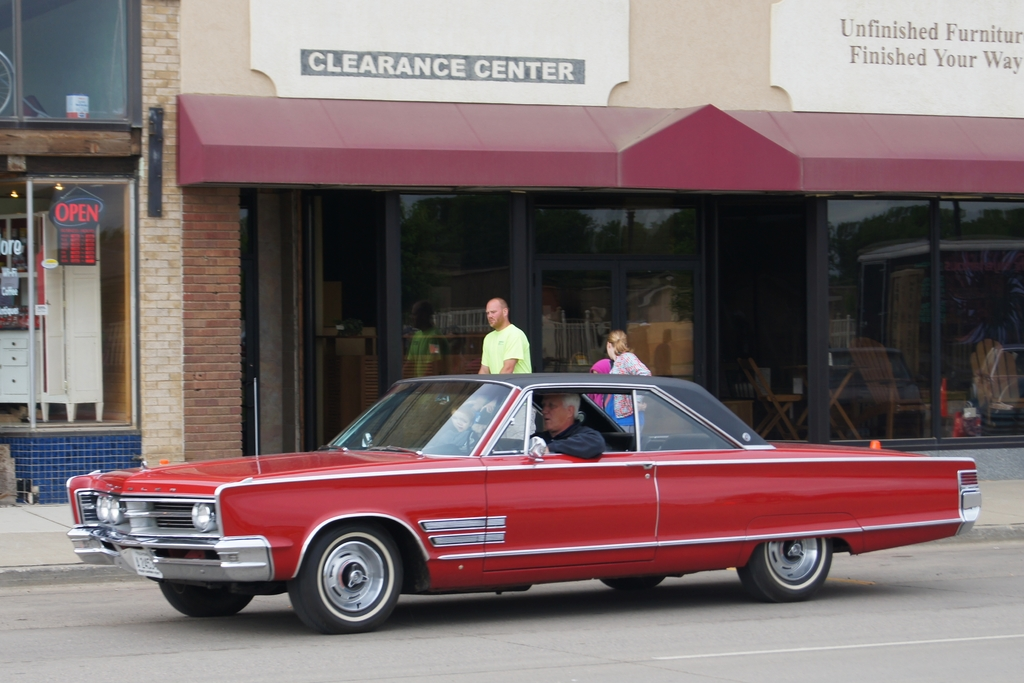car: (60, 366, 998, 642)
